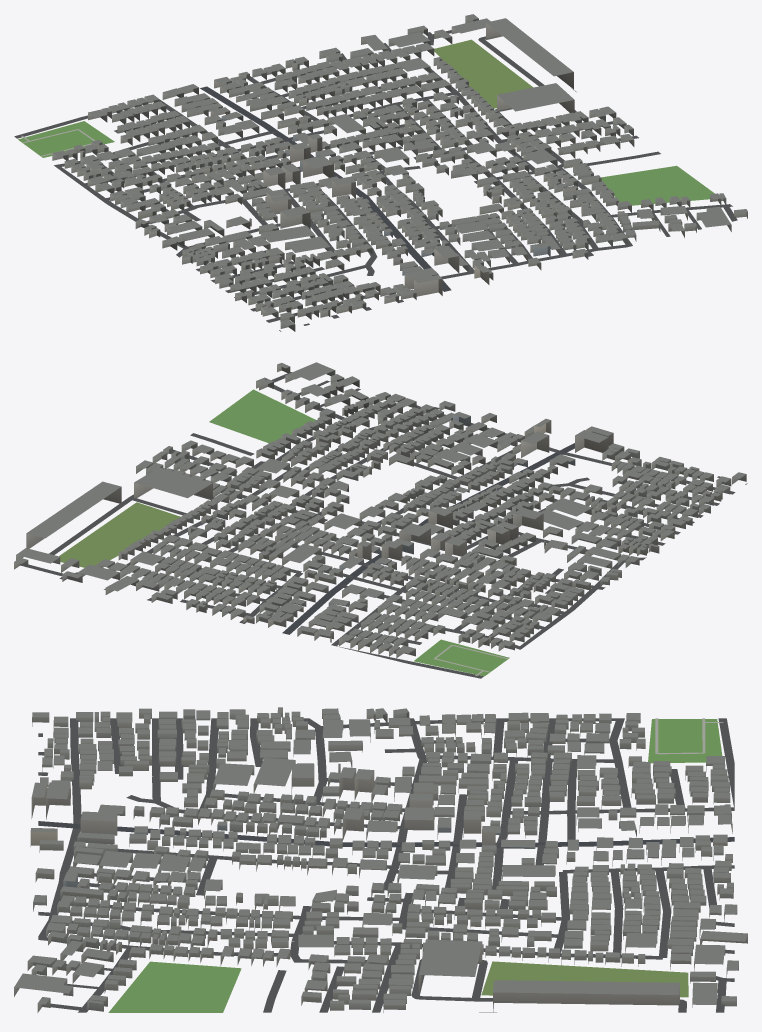
The picture shows the model from 3 angles, top to bottom: view 1: azimuth 30°, elevation 25°; view 2: azimuth 150°, elevation 25°; view 3: azimuth 270°, elevation 25°; orthographic projection. The views are drawn at different scales.
Visible parts, largest first — view 1: building, ground; view 2: building, ground; view 3: building, ground.
Part boxes in pixels (x1,y1,x2,y2): building: [52, 14, 747, 331]; ground: [14, 30, 737, 331]; building: [14, 362, 746, 658]; ground: [19, 372, 747, 678]; building: [14, 707, 747, 1012]; ground: [38, 718, 734, 1012].
Size of the model in its own units: 511 by 18 by 527.
